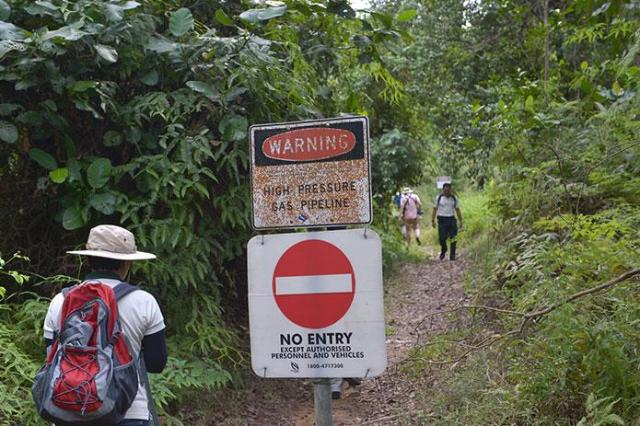B2: (269, 238, 359, 332)
